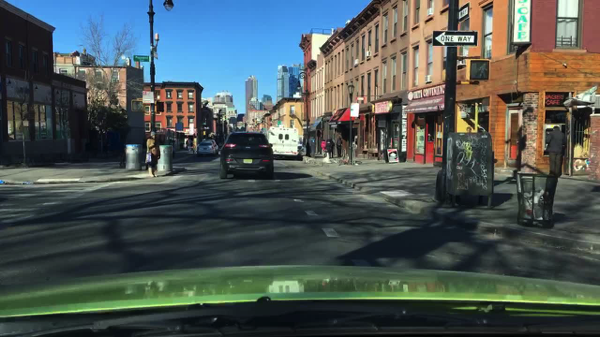car: (220, 133, 275, 180), (195, 142, 216, 157), (202, 140, 219, 155)
person: (544, 125, 566, 177), (145, 131, 161, 177), (325, 134, 336, 160), (336, 136, 343, 157), (185, 137, 192, 154), (321, 138, 327, 156)
traffic light: (465, 59, 491, 81), (254, 117, 259, 126), (224, 115, 227, 120)
traffic sign: (432, 30, 477, 47), (457, 2, 470, 23), (141, 91, 154, 103), (133, 55, 149, 63), (153, 51, 159, 59)
truck: (267, 126, 304, 161)
